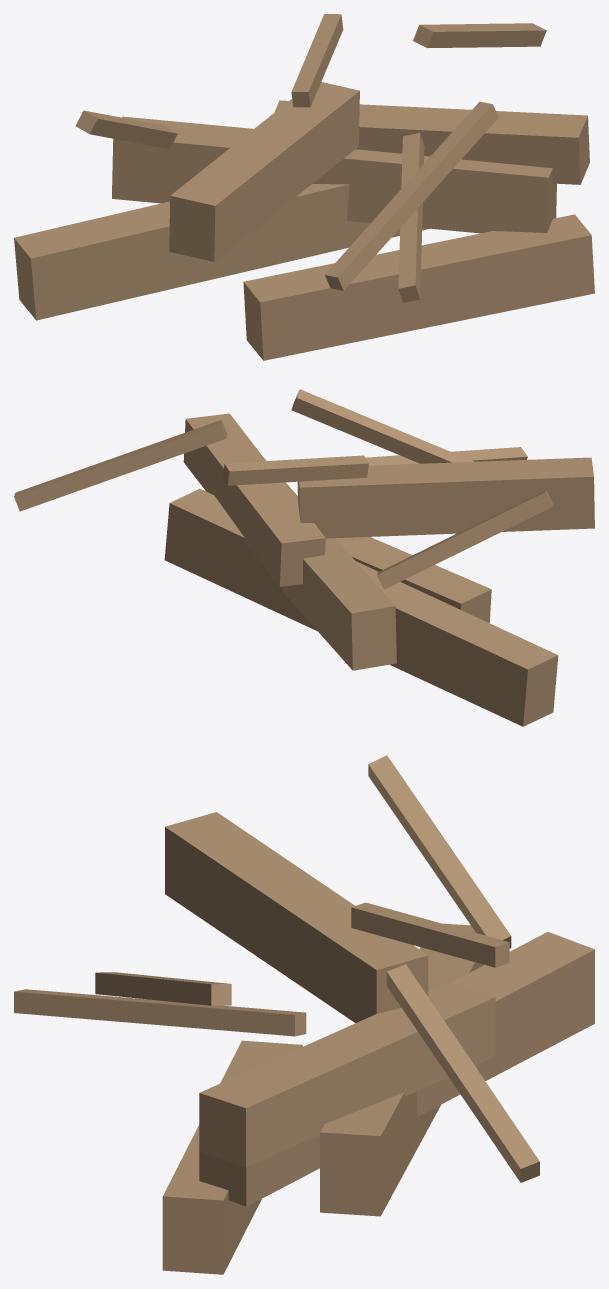
Rendered from lighthouse-and-rocky-coast-driftwood-pile-2e2e0b4b__36624.glb.
The picture shows the model from 3 angles, top to bottom: view 1: azimuth 30°, elevation 25°; view 2: azimuth 150°, elevation 25°; view 3: azimuth 270°, elevation 25°; orthographic projection. The views are drawn at different scales.
Parts seen in each view (by area): view 1: driftwood-pile; view 2: driftwood-pile; view 3: driftwood-pile.
Boxes of the visible parts, bbox=[...] form: driftwood-pile: bbox=[14, 14, 594, 360]; driftwood-pile: bbox=[14, 389, 594, 726]; driftwood-pile: bbox=[14, 755, 594, 1274].
Bounding box in the file's own units: 2.52 × 1.03 × 1.88.
